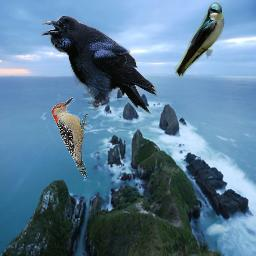Crow: (41, 15, 157, 115)
Swallow: (174, 2, 225, 79)
Woodpecker: (52, 96, 88, 180)
